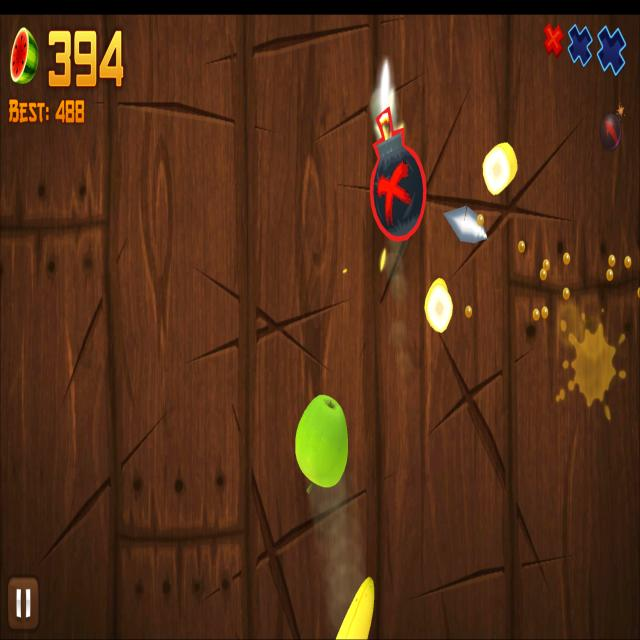bomb: (369, 107, 427, 240)
fruit: (296, 394, 348, 488), (335, 576, 375, 640)
